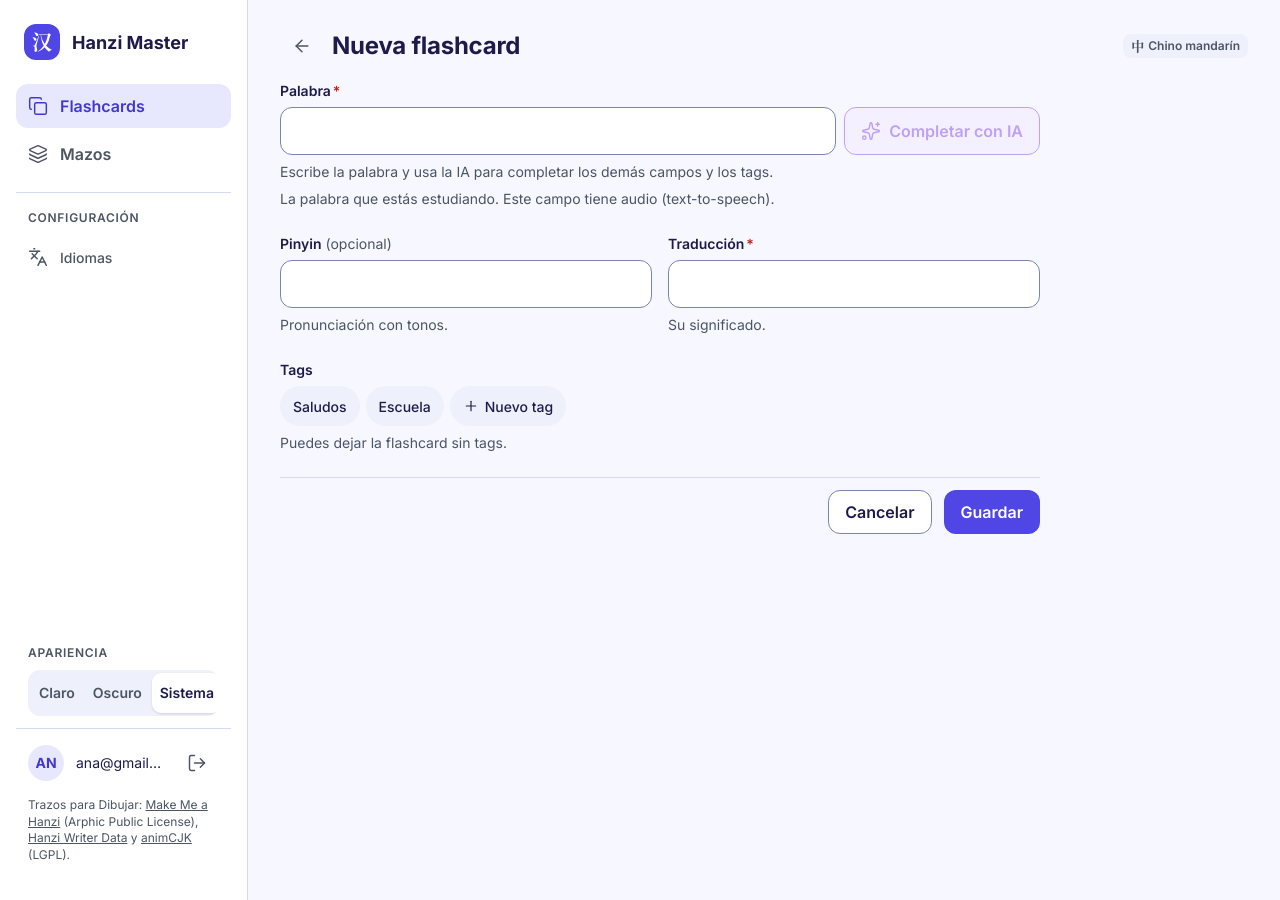
it: F03 · Completar con IA › F03-8 un fallo muestra el error con reintento y no bloquea el llenado manual
The width and height of the screenshot is (1280, 900).
Type "朋友" into the field labelled "Palabra*" at (558, 131), box [280,107,836,155]
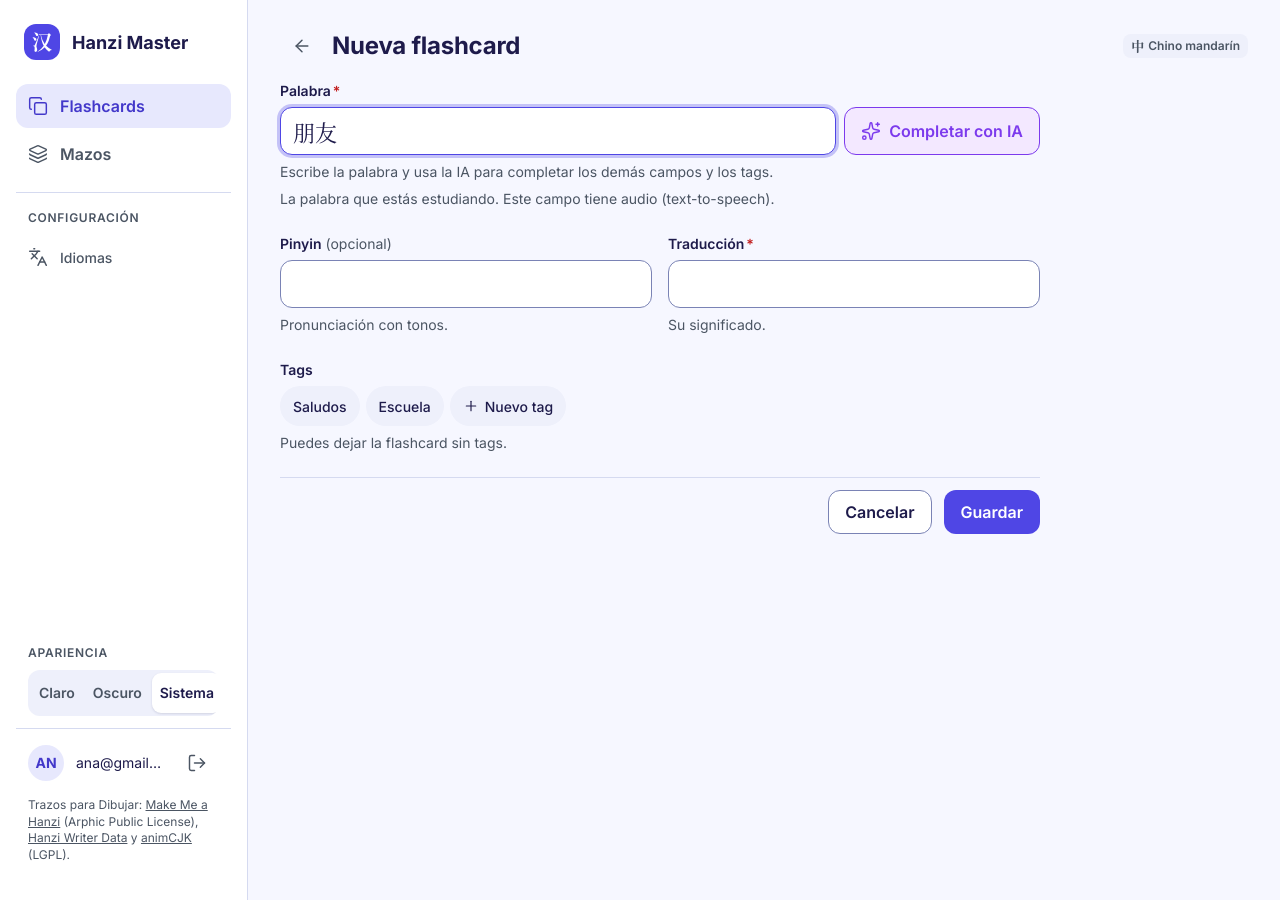
Click the button "Completar con IA" at (942, 131), box [844,107,1040,155]
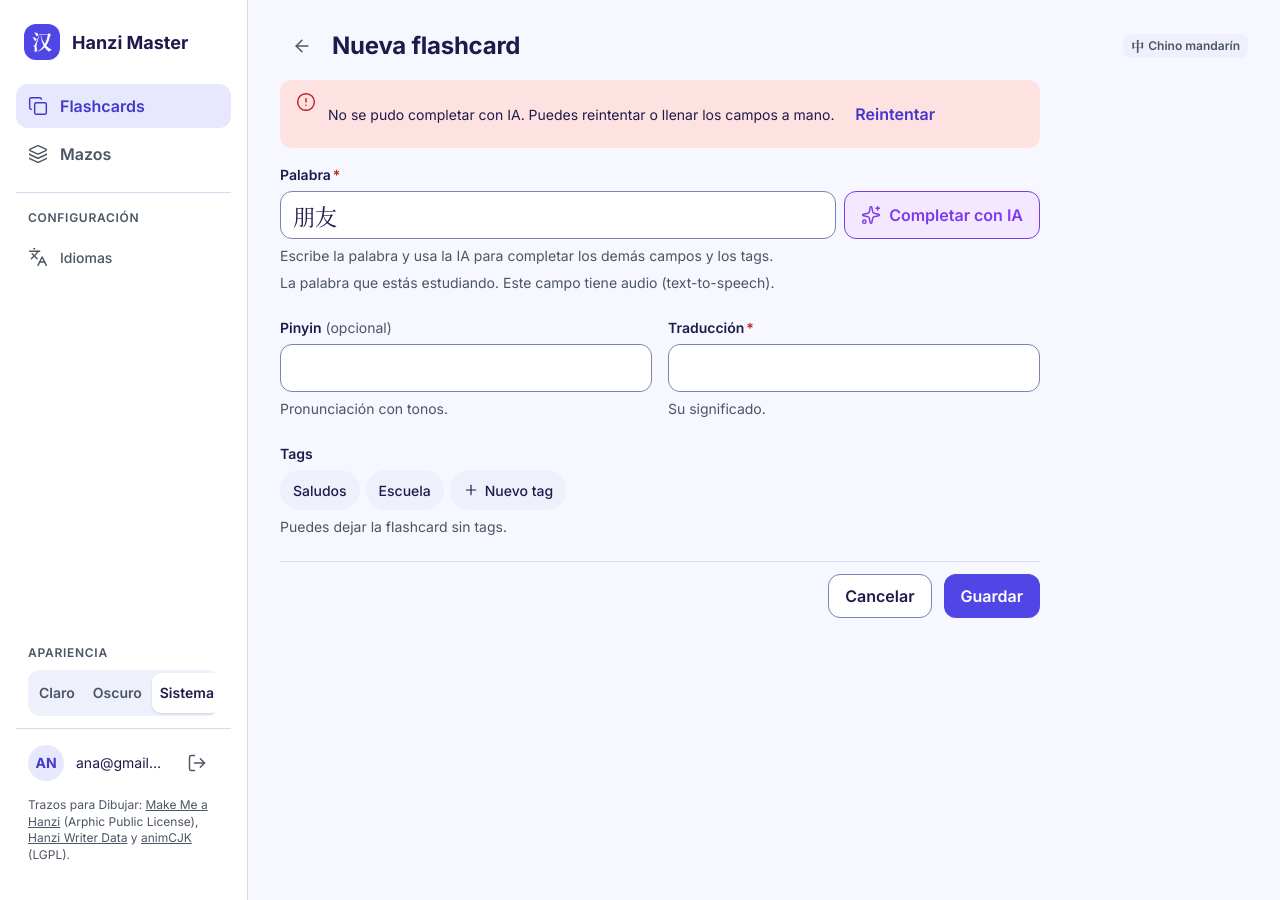
Expected: the message shows "No se pudo completar con IA. Puedes reintentar o llenar los campos a mano.", [328,106,834,123]
Type "amigo" into the field labelled "Traducción*" at (854, 368), box [668,344,1040,392]
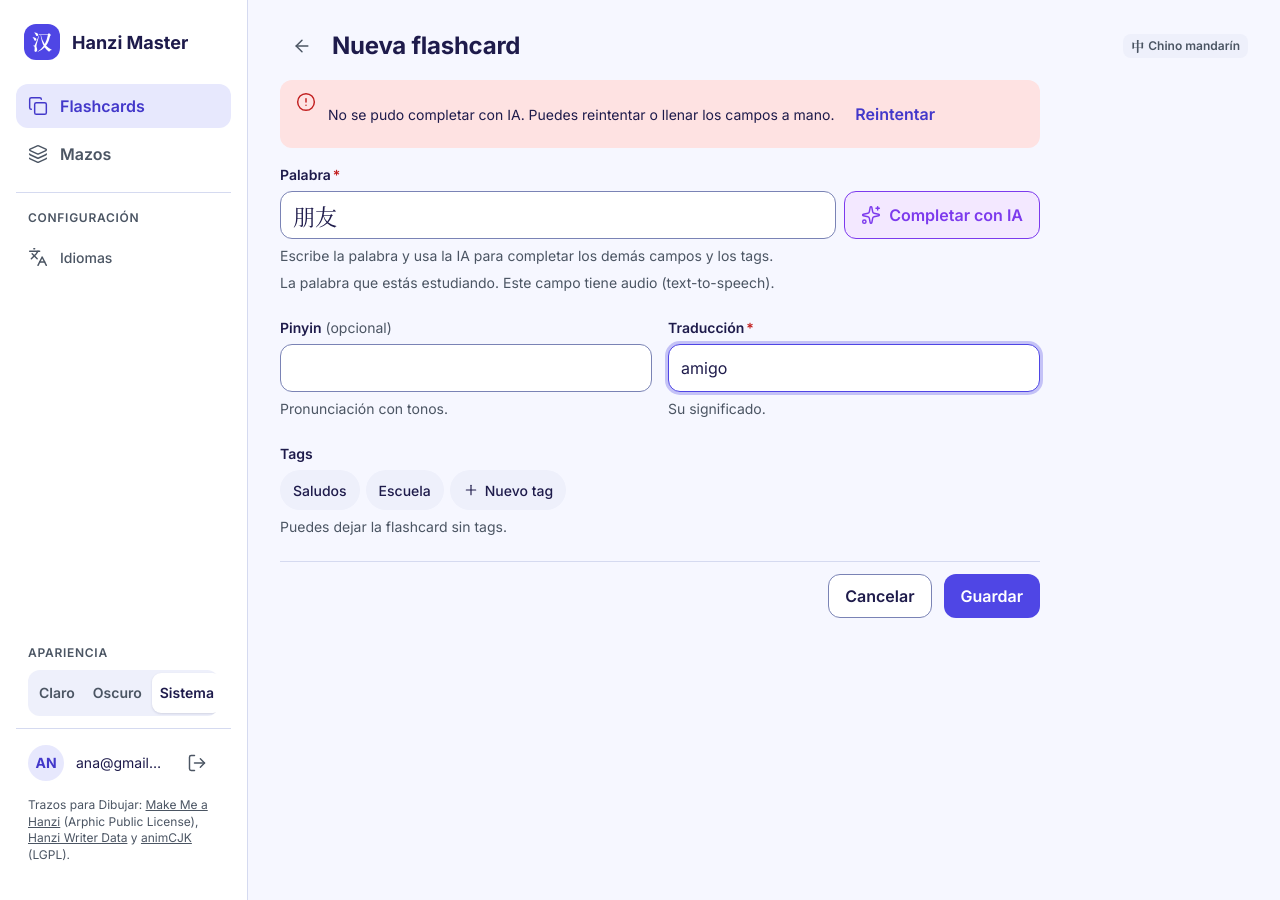
Click the button "Reintentar" at (895, 114), box [838,92,952,136]
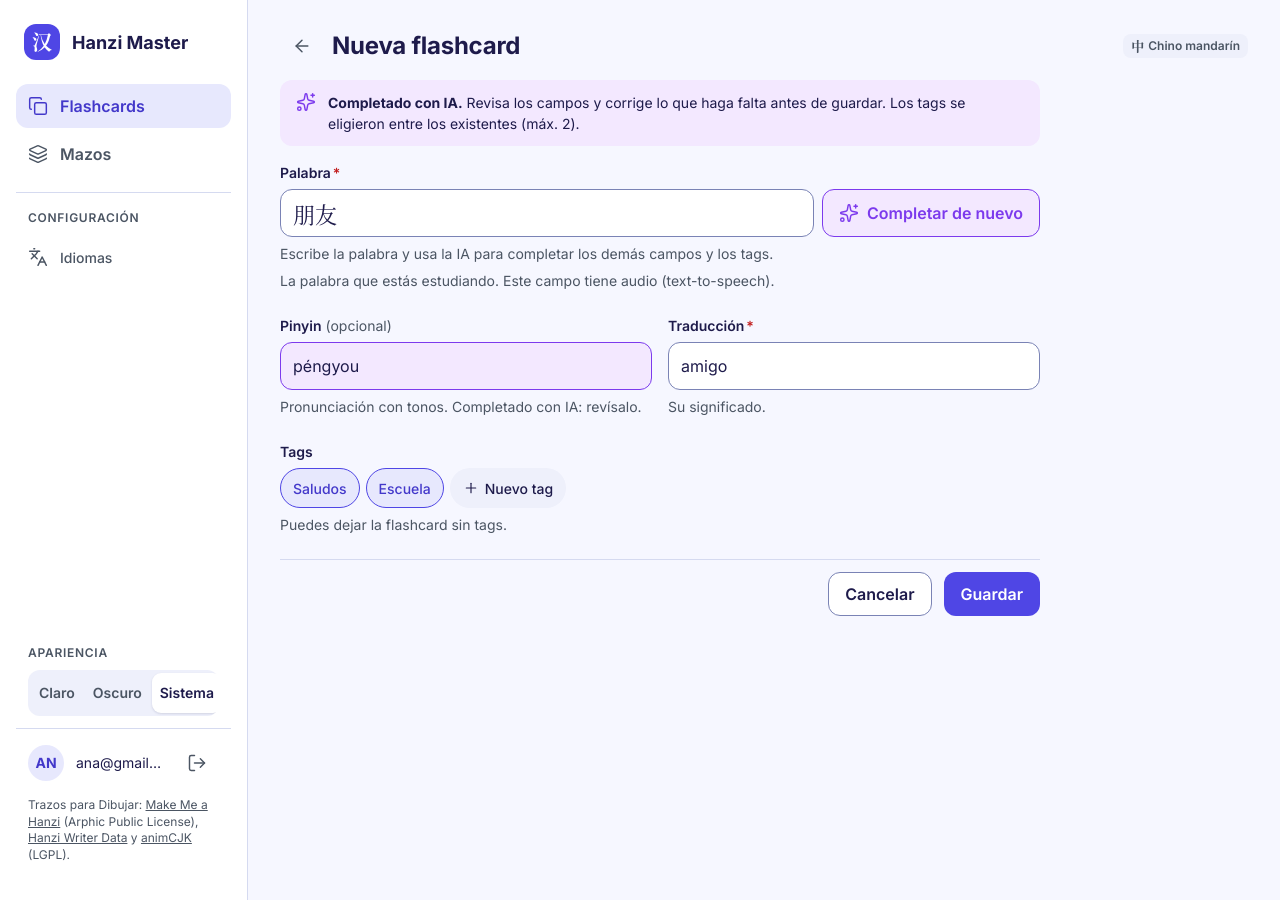
Expected: the field labelled "Pinyin(opcional)" holds "péngyou", [280,342,652,390]
Expected: the text "No se pudo completar con IA" is gone
